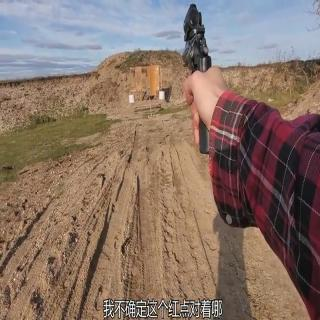gun: (167, 4, 235, 151)
